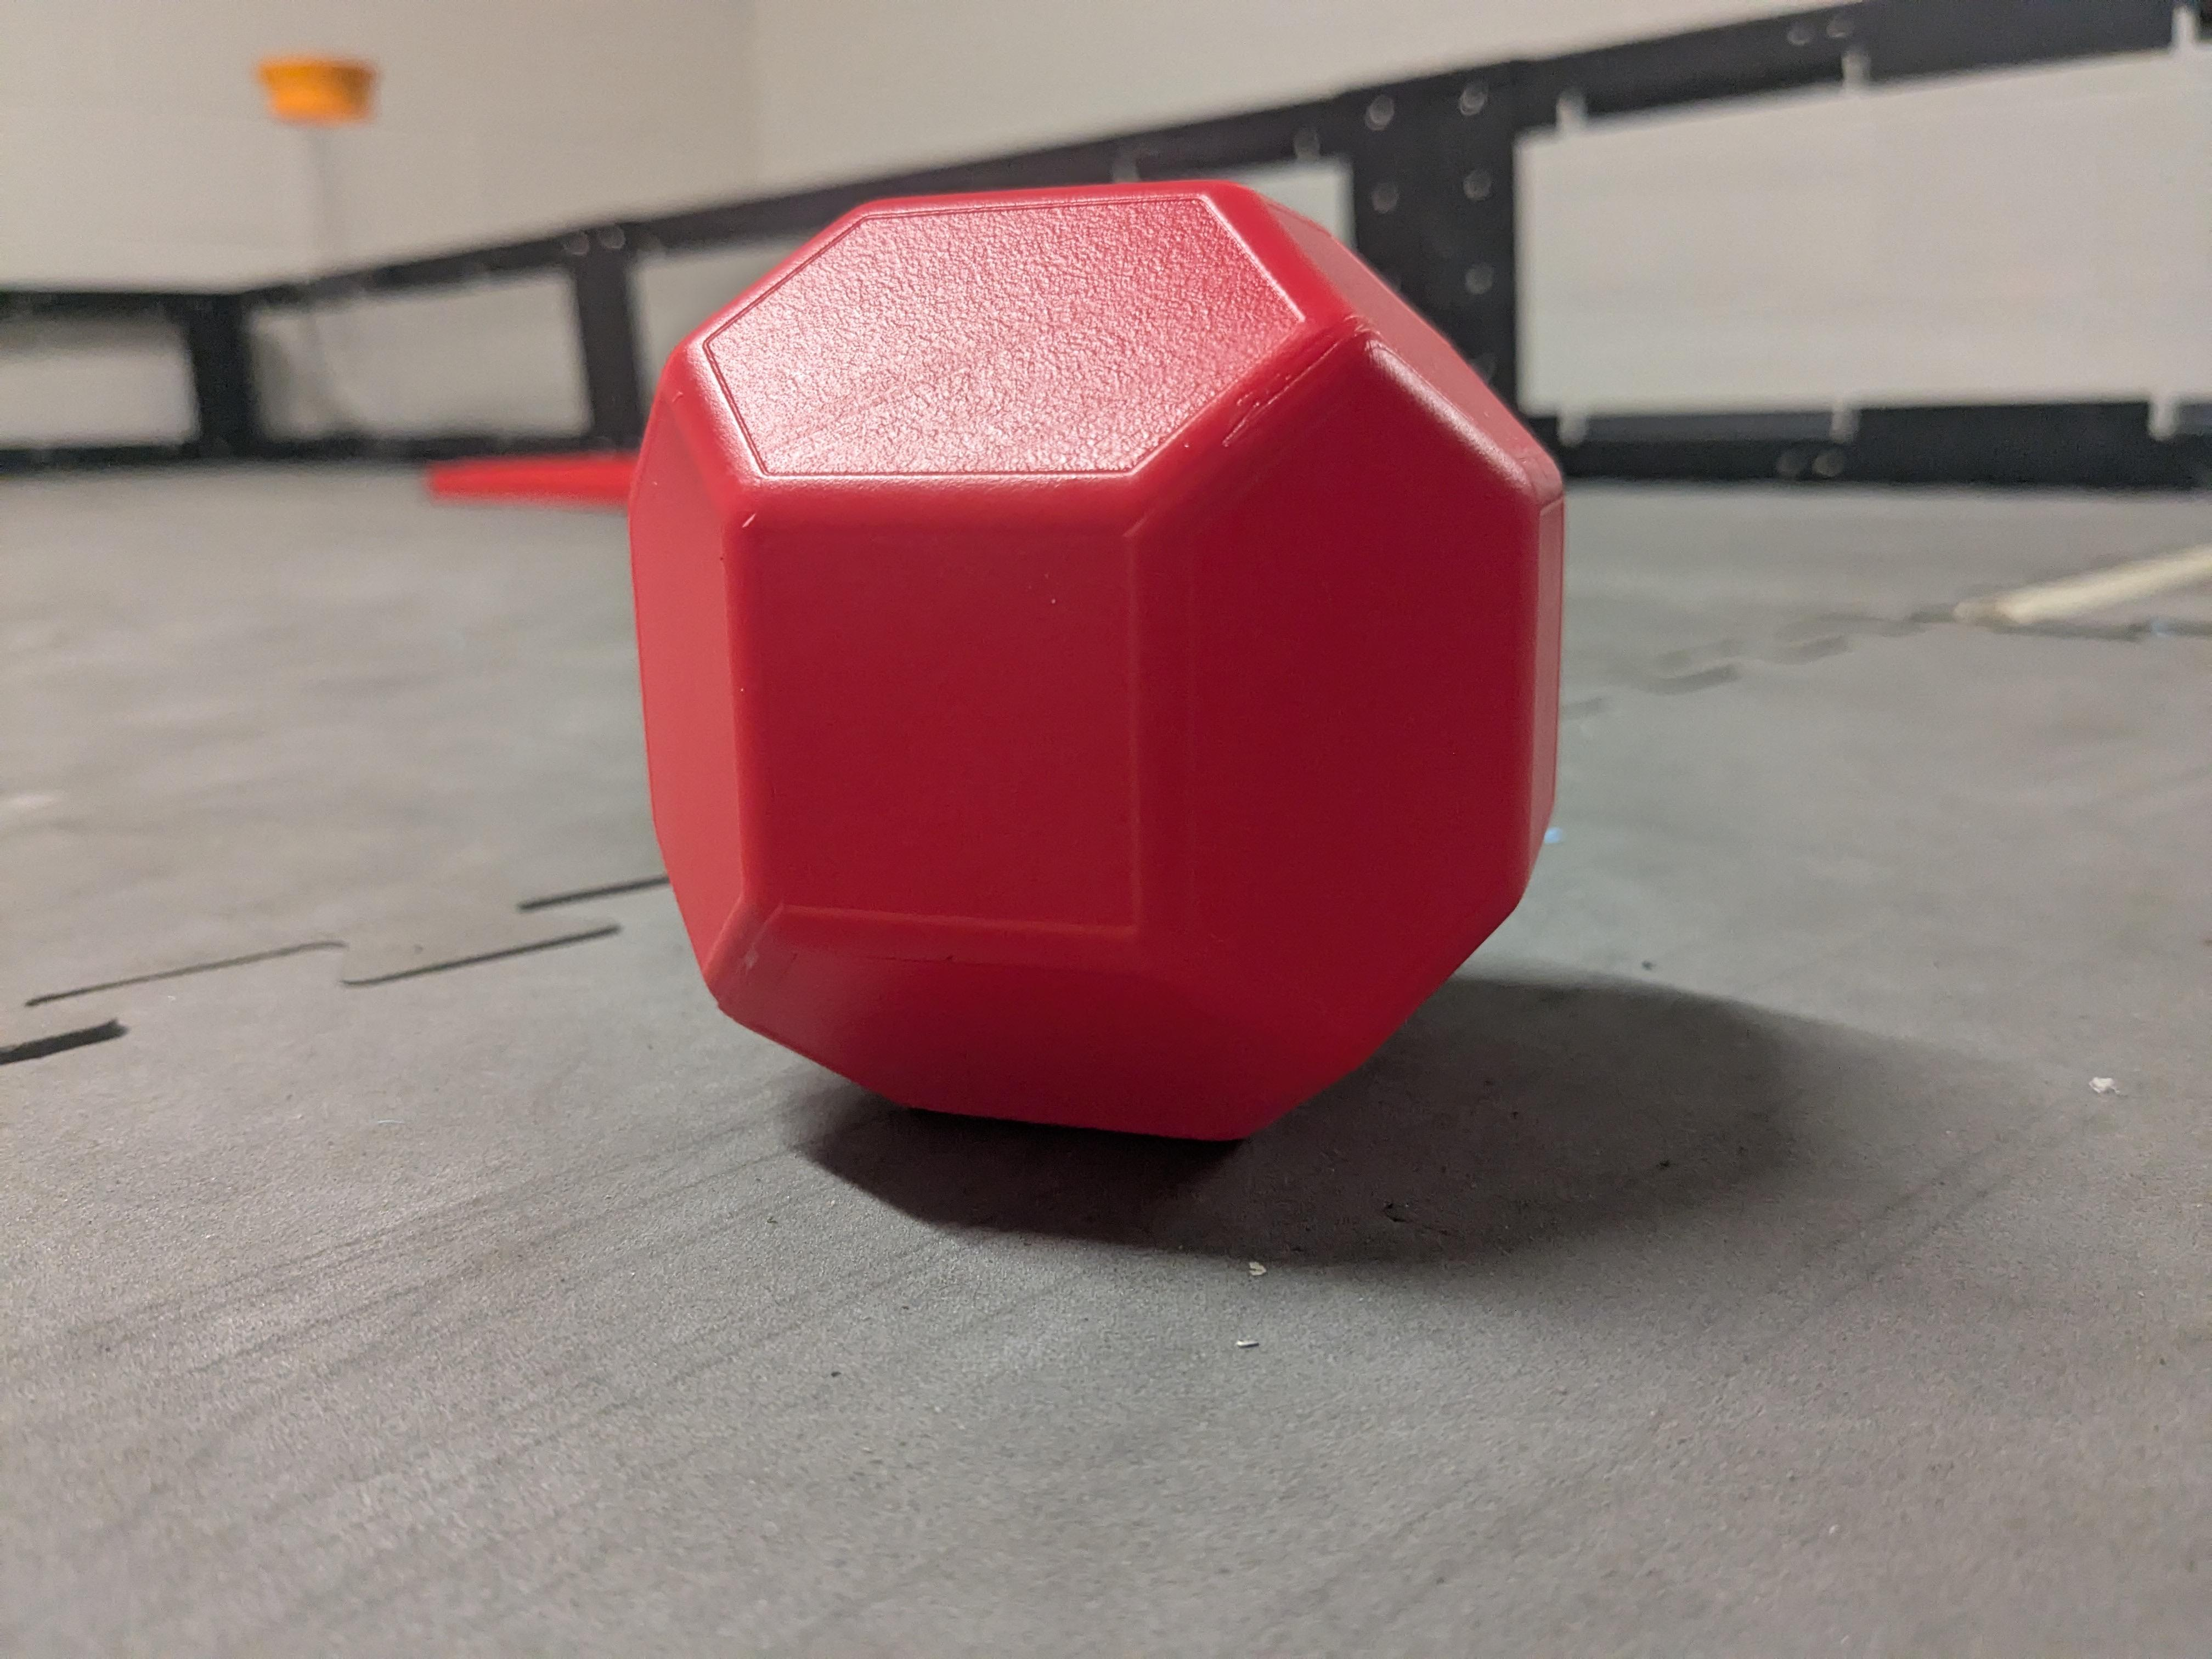Vex-Pieces-RED: (631, 183, 1562, 1140)
